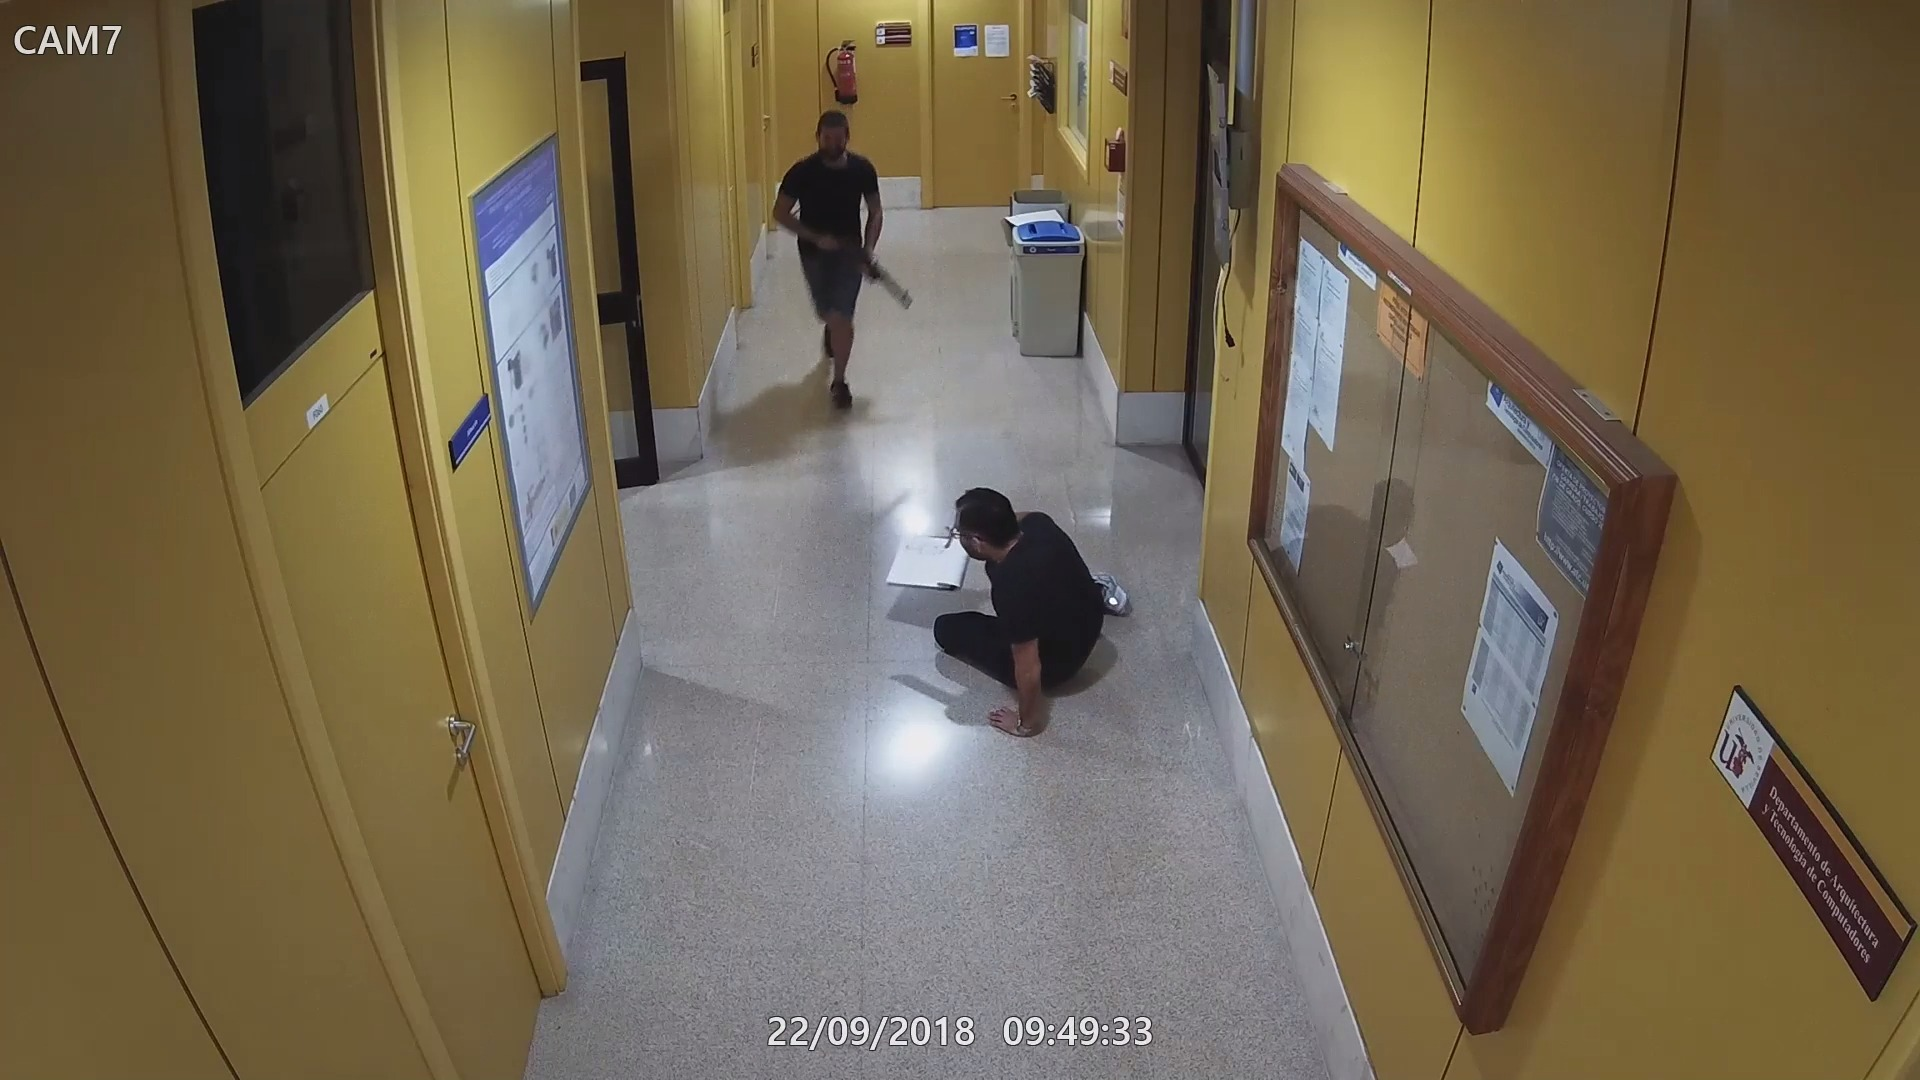rifle: (828, 233, 914, 310)
